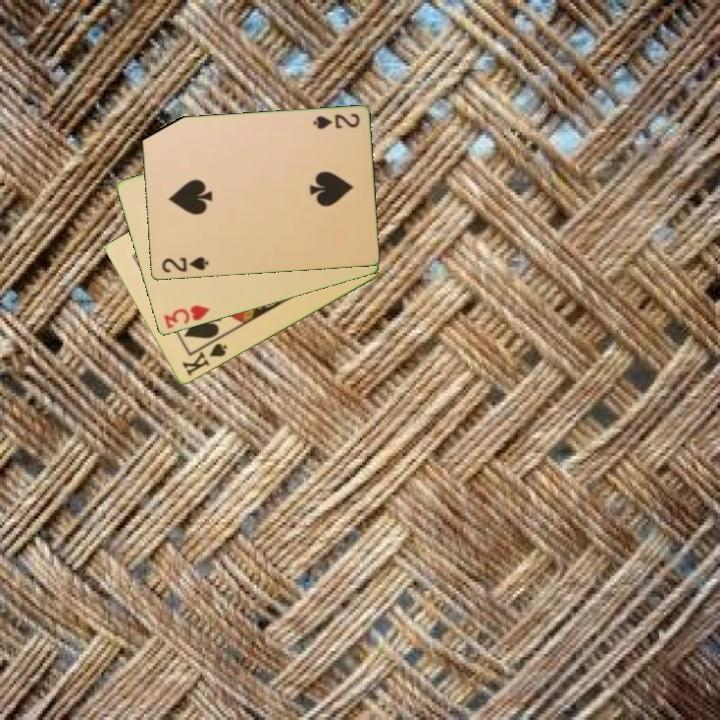2s: (309, 110, 362, 133), (158, 254, 211, 276)
3h: (160, 302, 212, 332)
Ks: (178, 335, 230, 379)
